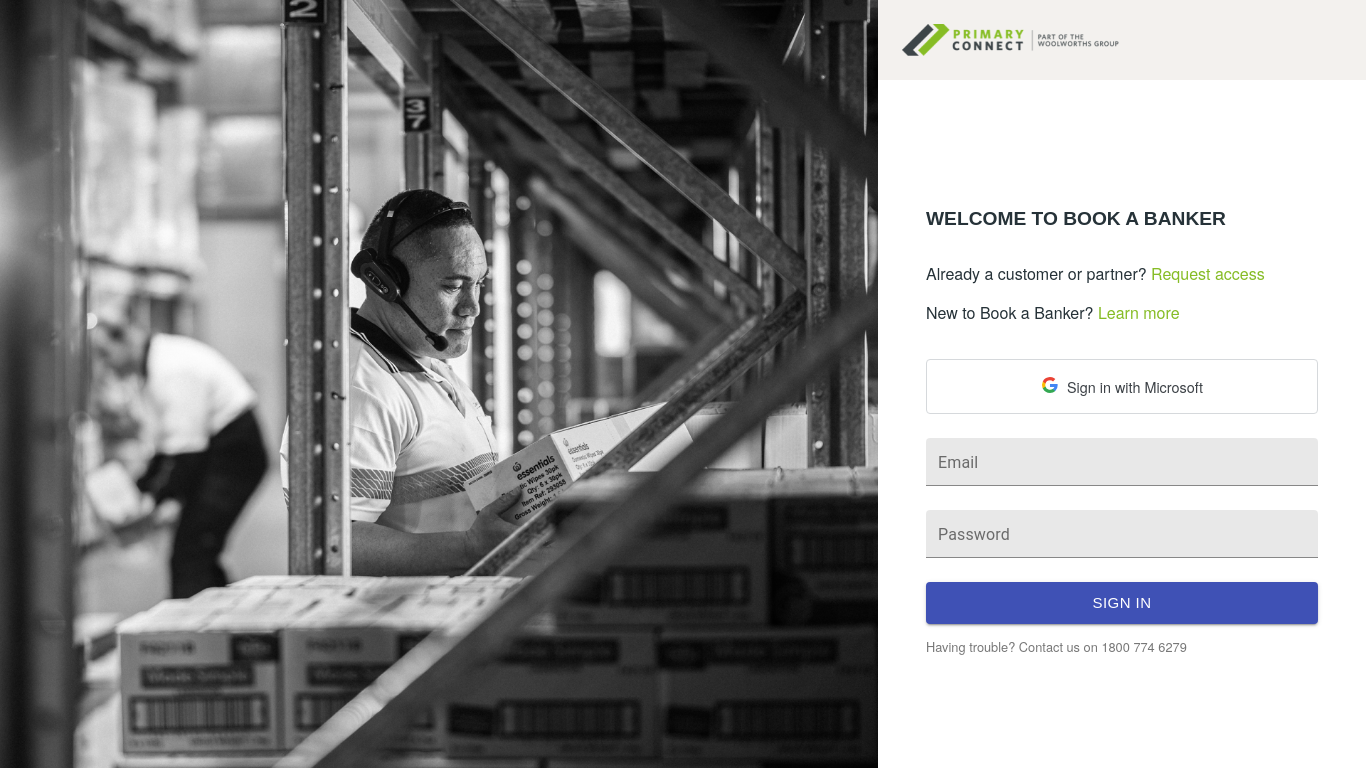
Test: logging in › bad email error
Type "sean" into the password field labelled "Password". click: x=1122, y=534
box: [926, 510, 1318, 558]
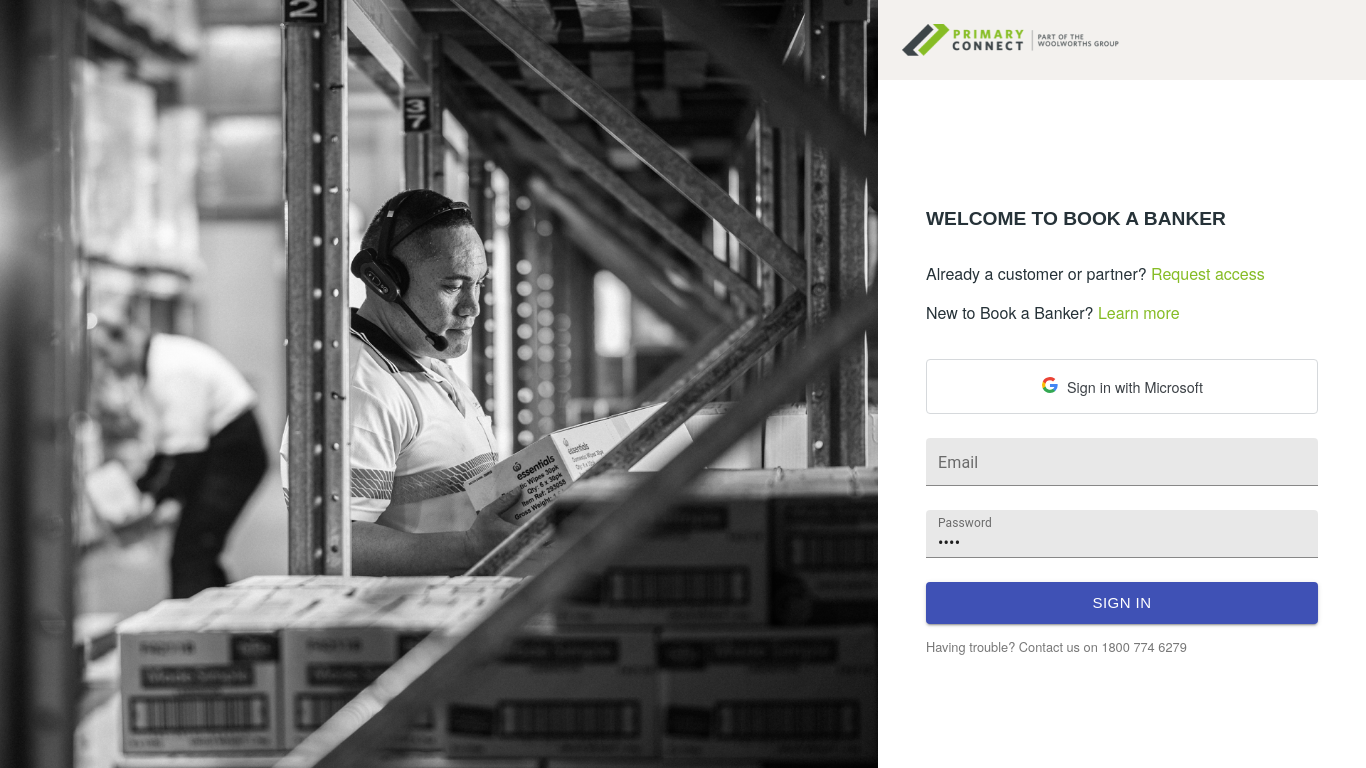
Click the button "Sign In". click: x=1122, y=603
box: [926, 582, 1318, 624]
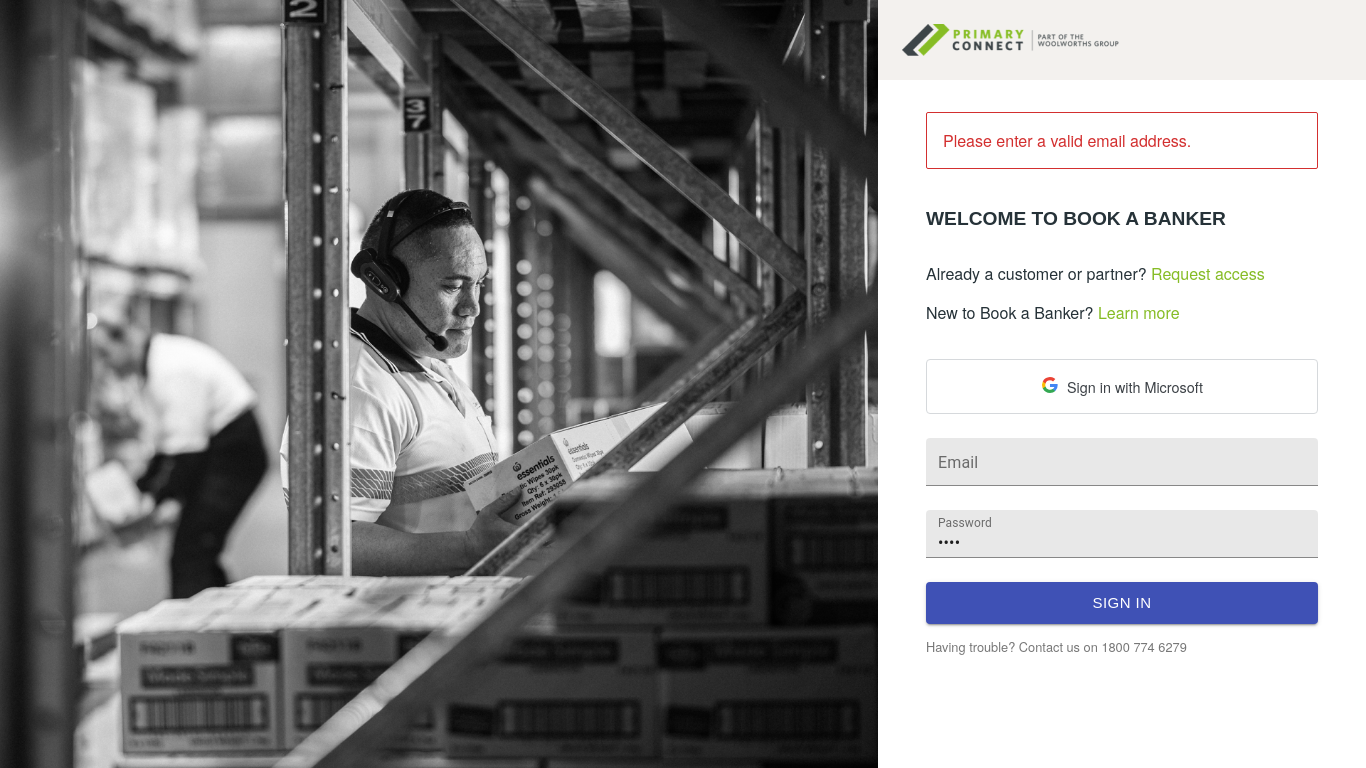
expect the text "Please enter a valid email address." is shown: met, box [926, 112, 1318, 169]
